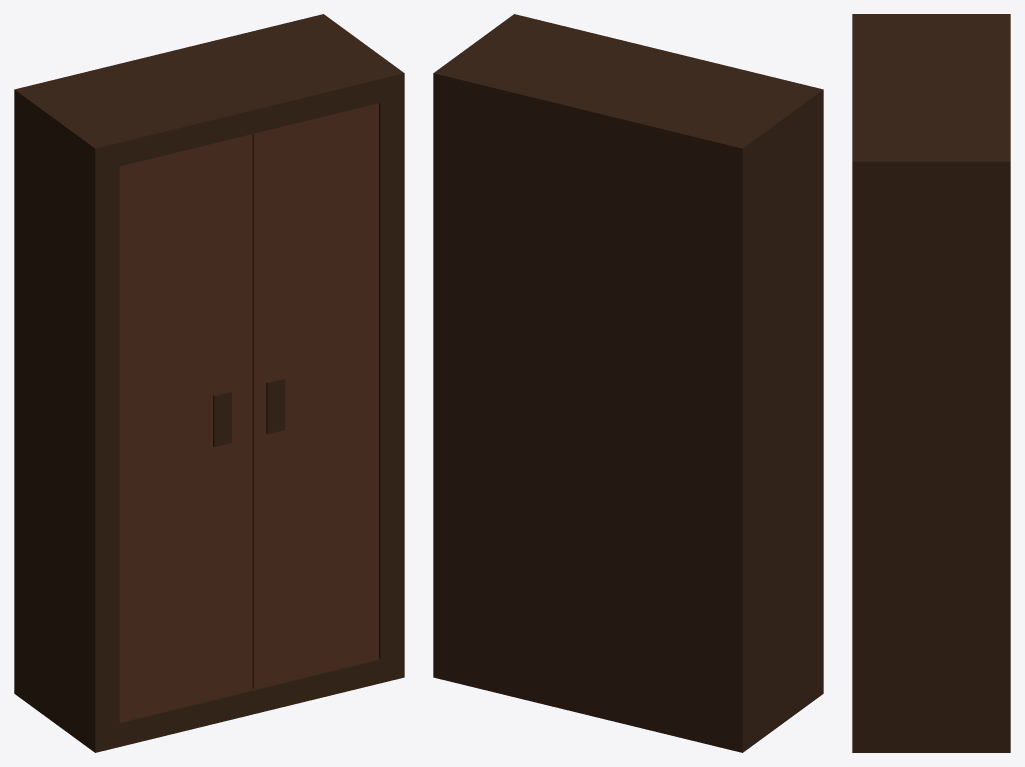
File: tallcabinet.glb
The picture shows the model from 3 angles, left to right: view 1: azimuth 30°, elevation 25°; view 2: azimuth 150°, elevation 25°; view 3: azimuth 270°, elevation 25°; orthographic projection. The views are drawn at different scales.
Parts seen in each view (by area): view 1: Cube; view 2: Cube; view 3: Cube.
Part boxes in pixels (box(x1,y1,x2,y2)): Cube: box(14, 14, 404, 752); Cube: box(433, 14, 823, 752); Cube: box(852, 14, 1010, 752).
Size of the model in its own units: 2 by 3.73 by 0.906.
